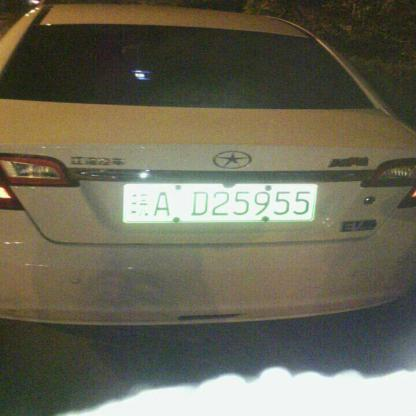lp: (123, 184, 317, 222)
